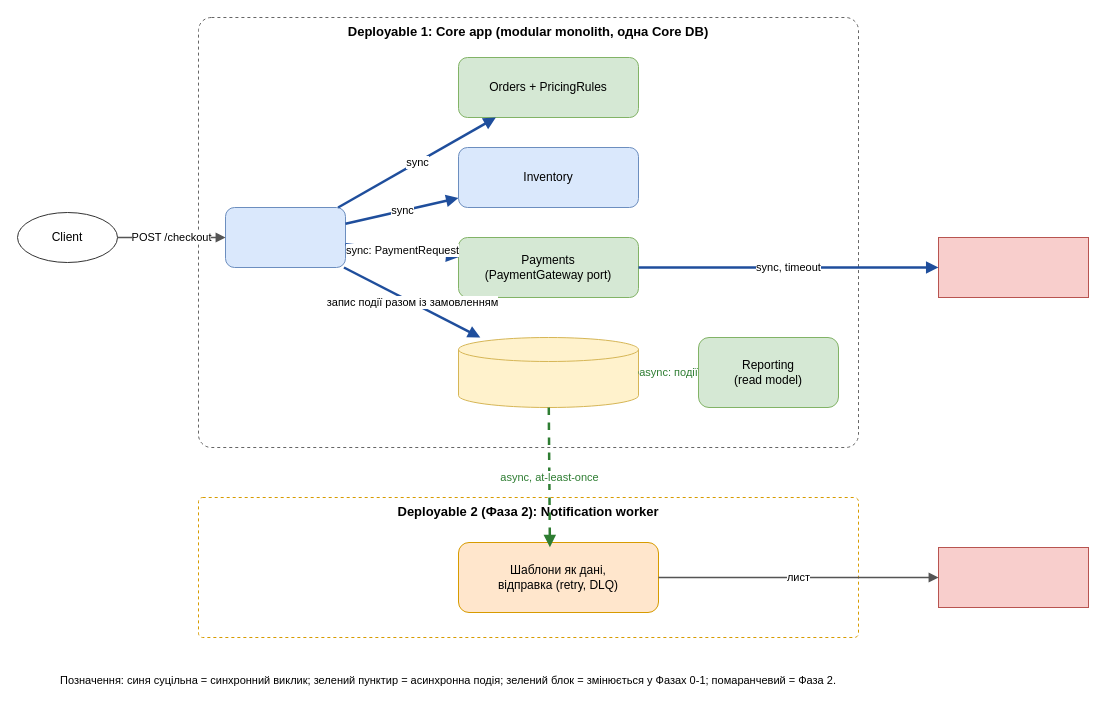
The diagram is 1106 pixels wide and 725 high, and some of its shapes have lost their labels. Each missing label, with the centre of its shape:
Checkout (оркестратор): pixel 285 237
FakeMail (email provider): pixel 1013 577
FakePay (платіжний provider): pixel 1013 267
Outbox (події): pixel 548 372
